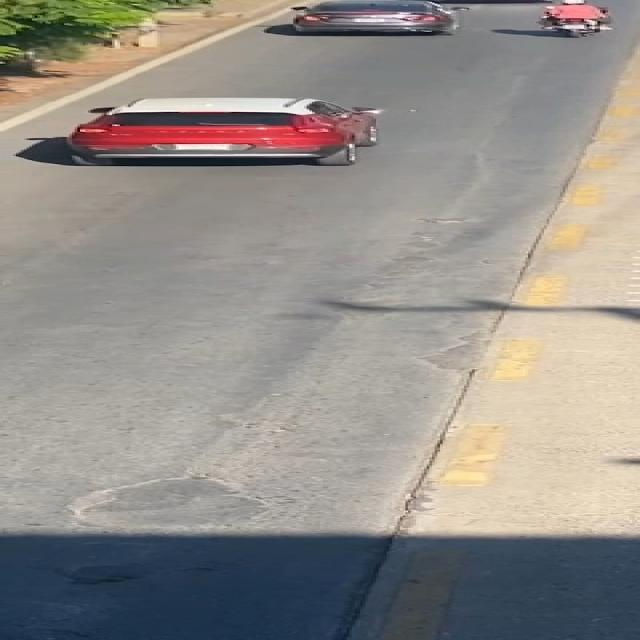car: (54, 88, 396, 170), (243, 0, 488, 39)
